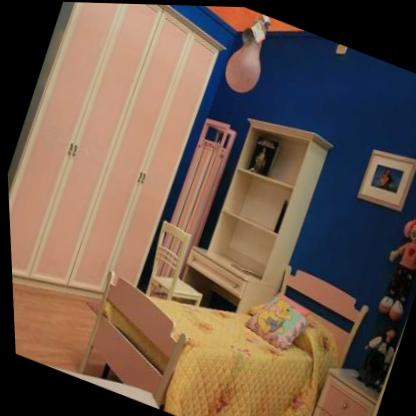Bed: (63, 194, 378, 416)
Chair: (124, 211, 225, 324)
Closet: (0, 0, 250, 344)
